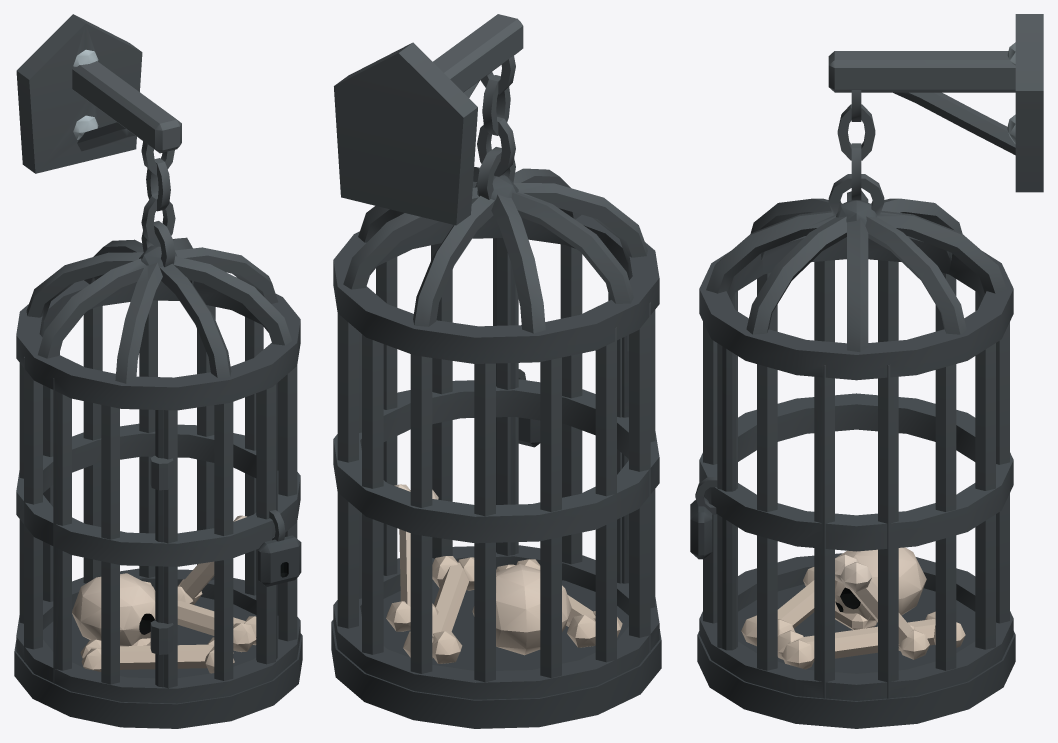
File: hanging_cage_bones.glb
3 renders of one model, left to right at view 1: azimuth 30°, elevation 25°; view 2: azimuth 150°, elevation 25°; view 3: azimuth 270°, elevation 25°, orthographic. The views are drawn at different scales.
Visible parts, largest first — view 1: hanging_cage_bones; view 2: hanging_cage_bones; view 3: hanging_cage_bones.
Part boxes in pixels (bbox=[...]): hanging_cage_bones: bbox=[14, 14, 302, 728]; hanging_cage_bones: bbox=[331, 14, 661, 728]; hanging_cage_bones: bbox=[690, 14, 1043, 728].
Bounding box in the file's own units: 1.6 × 3.59 × 1.77.
Materials: 1 (1 with a texture image).
